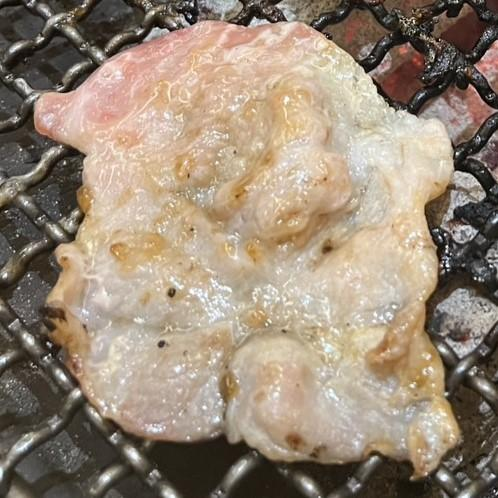Undercooked: (31, 21, 465, 484)
